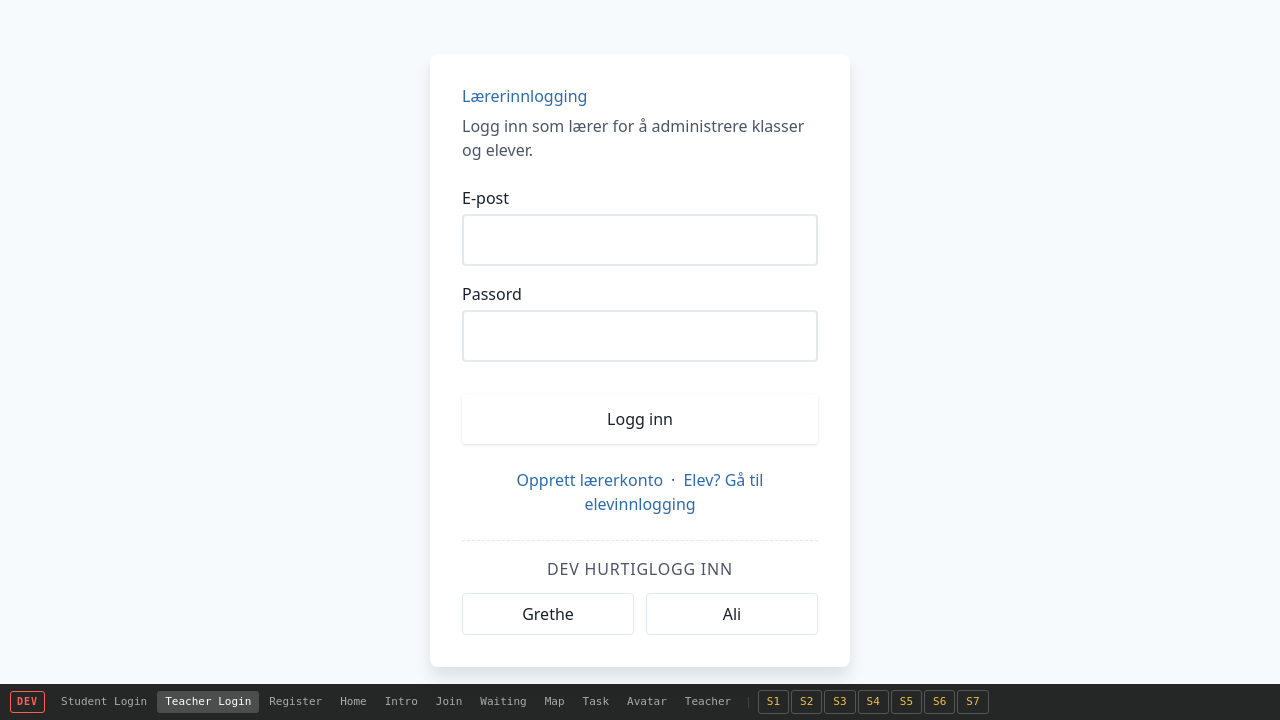
Test: Teacher classroom flow › logs in and sees the dashboard
Type "teacher@test.no" into the field labelled "E-post" at (640, 240), box [462, 214, 818, 266]
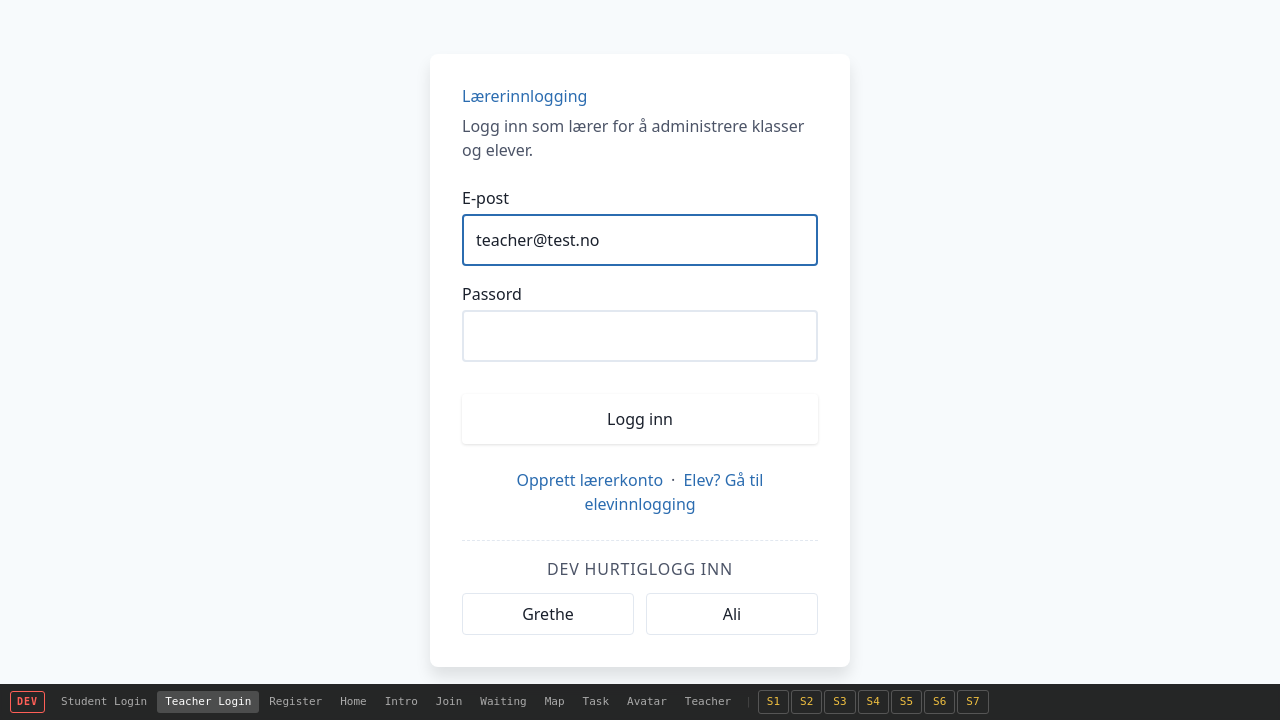
Type "password123" into the password field labelled "Passord" at (640, 336), box [462, 310, 818, 362]
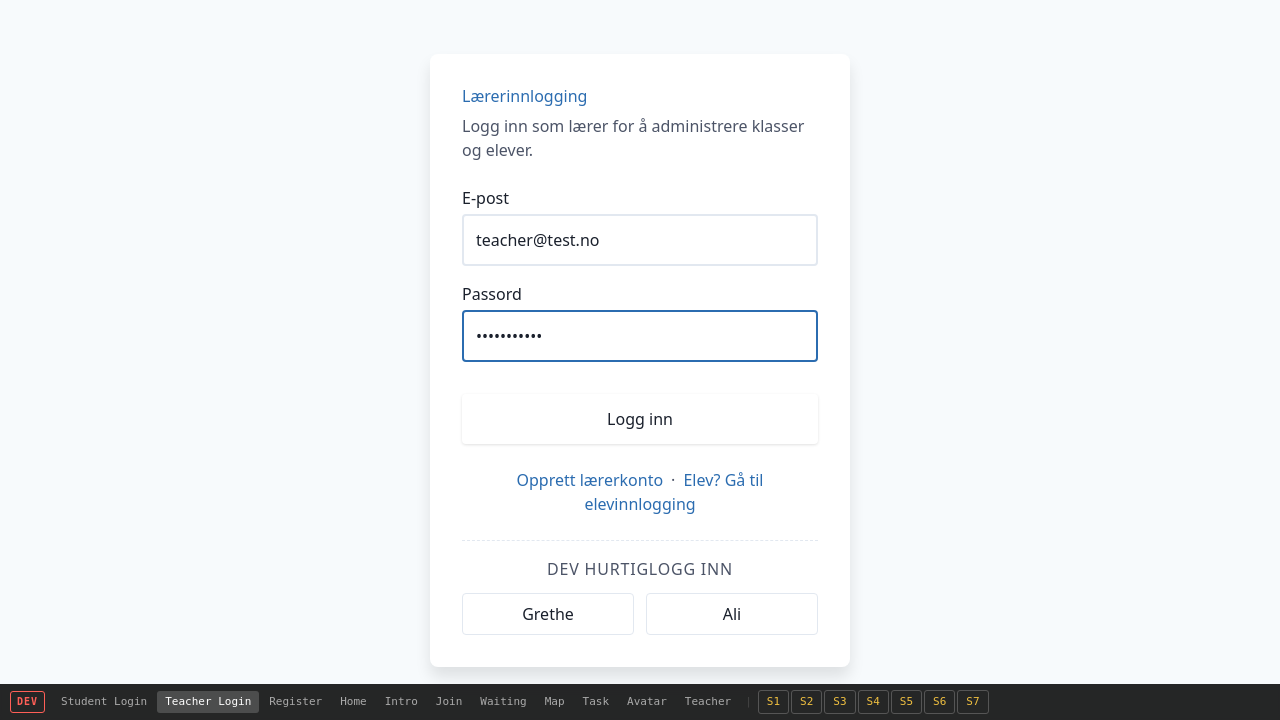
Click the submit button at (640, 419), box [462, 394, 818, 444]
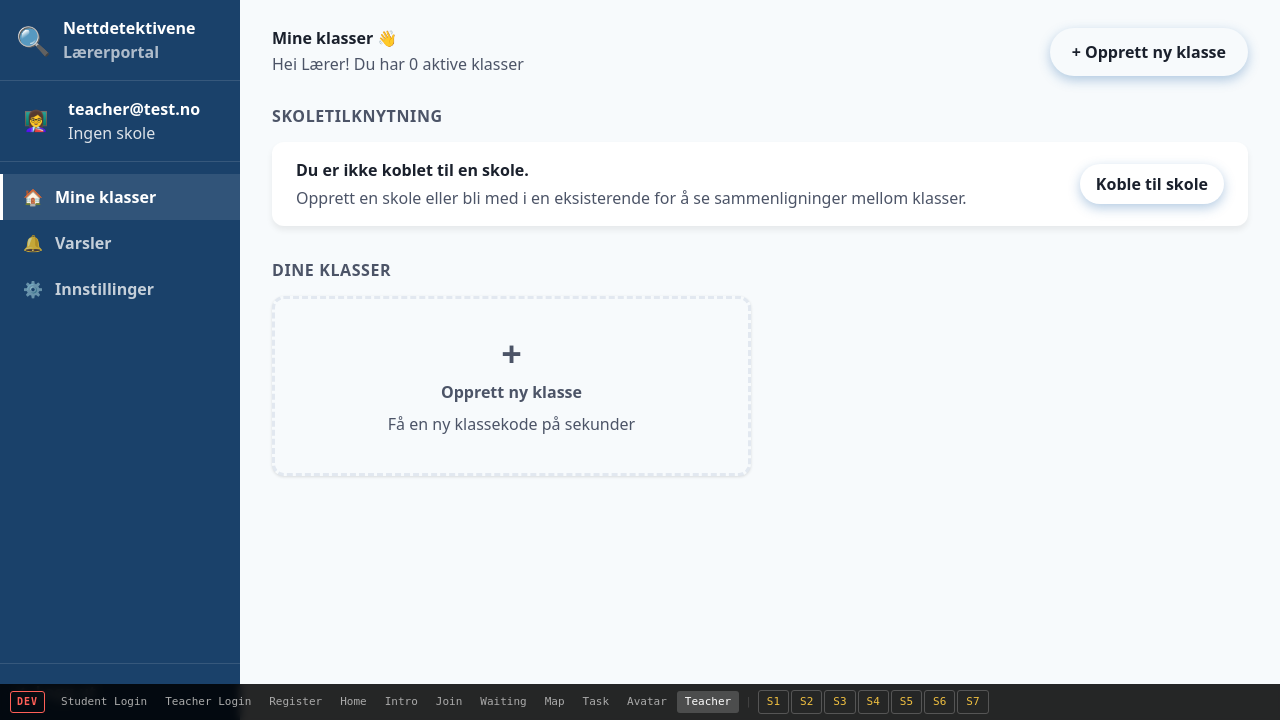
Now the link "🏠 Mine klasser" is shown, box [0, 174, 240, 220]
Now the button "+ Opprett ny klasse" is shown, box [1050, 28, 1248, 76]
